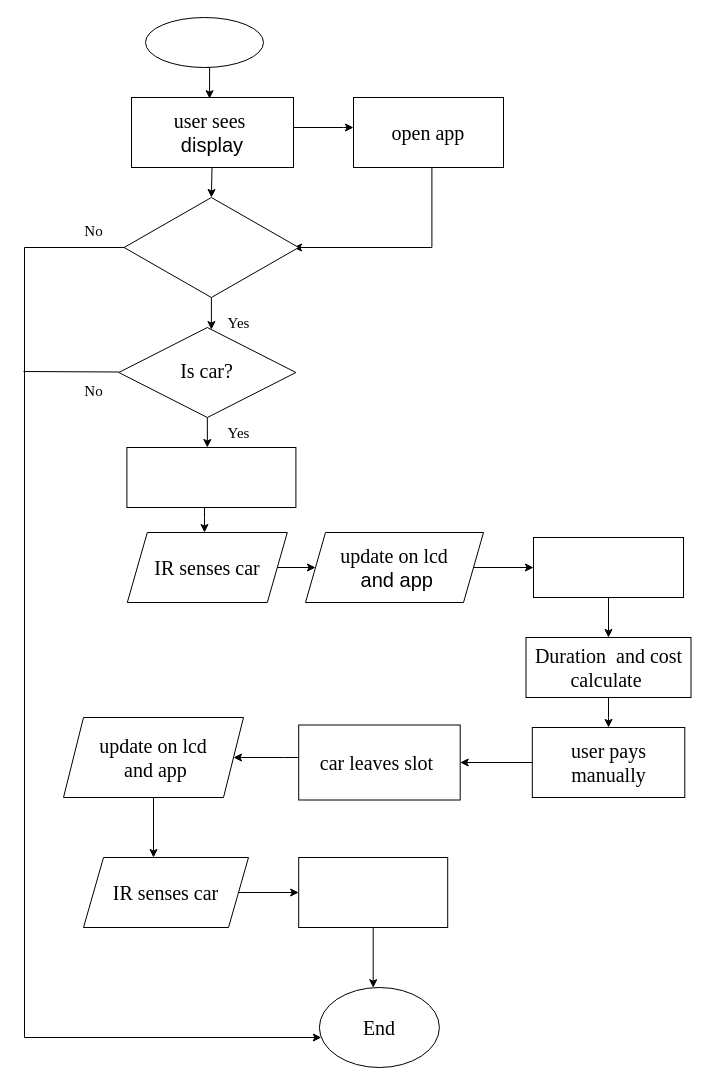
This 709x1085 diagram has some shape labels left out. The box of each missing label's shape, as (x1, y1, x2, y2) in pixels:
Is slot empty?: (123, 196, 299, 298)
open the gate: (298, 856, 448, 928)
RTC gives time: (532, 536, 684, 598)
servo opens gate: (126, 446, 296, 508)
Start: (144, 16, 264, 68)
